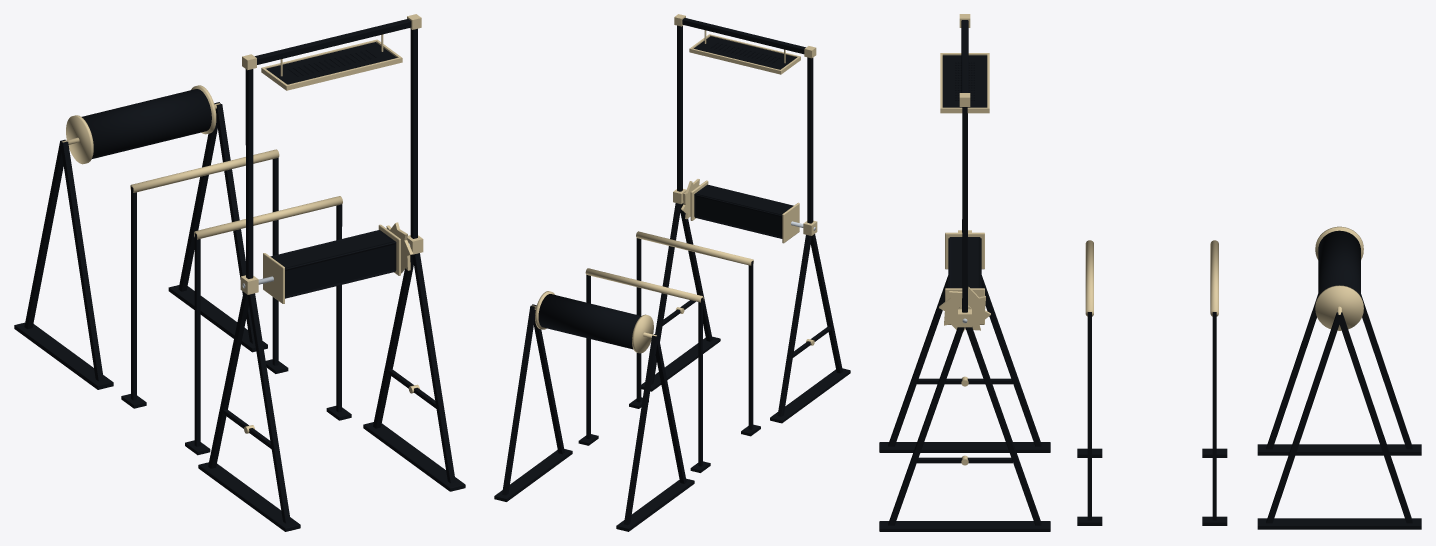
Rendered from jacquard.glb.
3 renders of one model, left to right at view 1: azimuth 30°, elevation 25°; view 2: azimuth 150°, elevation 25°; view 3: azimuth 270°, elevation 25°, orthographic. The views are drawn at different scales.
Parts seen in each view (by area): view 1: Jq_Frame, Jq_Posts, Roller_Body, Prism_Body, Jq_Rods, Jq_Comber, Jq_ComberFrame, Roller_Caps, Prism_Plates, Jq_Bearings; view 2: Jq_Posts, Jq_Frame, Roller_Body, Prism_Body, Jq_Rods, Jq_Comber, Jq_ComberFrame, Roller_Caps, Prism_Plates, Jq_Bearings; view 3: Jq_Frame, Jq_Posts, Roller_Body, Jq_Comber, Roller_Caps, Prism_Body, Jq_Rods, Prism_Gear, Jq_ComberFrame, Jq_Bearings, Prism_Plates.
Part boxes in pixels (x1=…): Jq_Frame: x1=198, y1=19, x2=465, y2=531; Jq_Posts: x1=14, y1=102, x2=351, y2=455; Roller_Body: x1=82, y1=89, x2=211, y2=158; Prism_Body: x1=270, y1=230, x2=396, y2=298; Jq_Rods: x1=130, y1=149, x2=342, y2=239; Jq_Comber: x1=266, y1=42, x2=396, y2=84; Jq_ComberFrame: x1=261, y1=34, x2=402, y2=90; Roller_Caps: x1=62, y1=85, x2=219, y2=164; Prism_Plates: x1=263, y1=224, x2=400, y2=303; Jq_Bearings: x1=240, y1=14, x2=423, y2=433; Jq_Posts: x1=494, y1=238, x2=760, y2=531; Jq_Frame: x1=641, y1=18, x2=850, y2=423; Roller_Body: x1=538, y1=294, x2=641, y2=349; Prism_Body: x1=694, y1=184, x2=793, y2=238; Jq_Rods: x1=585, y1=231, x2=753, y2=302; Jq_Comber: x1=694, y1=36, x2=796, y2=69; Jq_ComberFrame: x1=689, y1=30, x2=800, y2=74; Roller_Caps: x1=532, y1=291, x2=656, y2=353; Prism_Plates: x1=690, y1=180, x2=799, y2=243; Jq_Bearings: x1=673, y1=14, x2=817, y2=345; Jq_Frame: x1=879, y1=20, x2=1050, y2=531; Jq_Posts: x1=1077, y1=294, x2=1421, y2=529; Roller_Body: x1=1318, y1=230, x2=1360, y2=296; Jq_Comber: x1=942, y1=55, x2=987, y2=107; Roller_Caps: x1=1315, y1=226, x2=1363, y2=330; Prism_Body: x1=948, y1=237, x2=981, y2=288; Jq_Rods: x1=1085, y1=240, x2=1218, y2=316; Prism_Gear: x1=939, y1=286, x2=990, y2=331; Jq_ComberFrame: x1=940, y1=53, x2=989, y2=113; Jq_Bearings: x1=958, y1=14, x2=971, y2=465; Prism_Plates: x1=945, y1=232, x2=984, y2=324.
Size of the model in its own units: 5.74 by 13.42 by 15.2.
